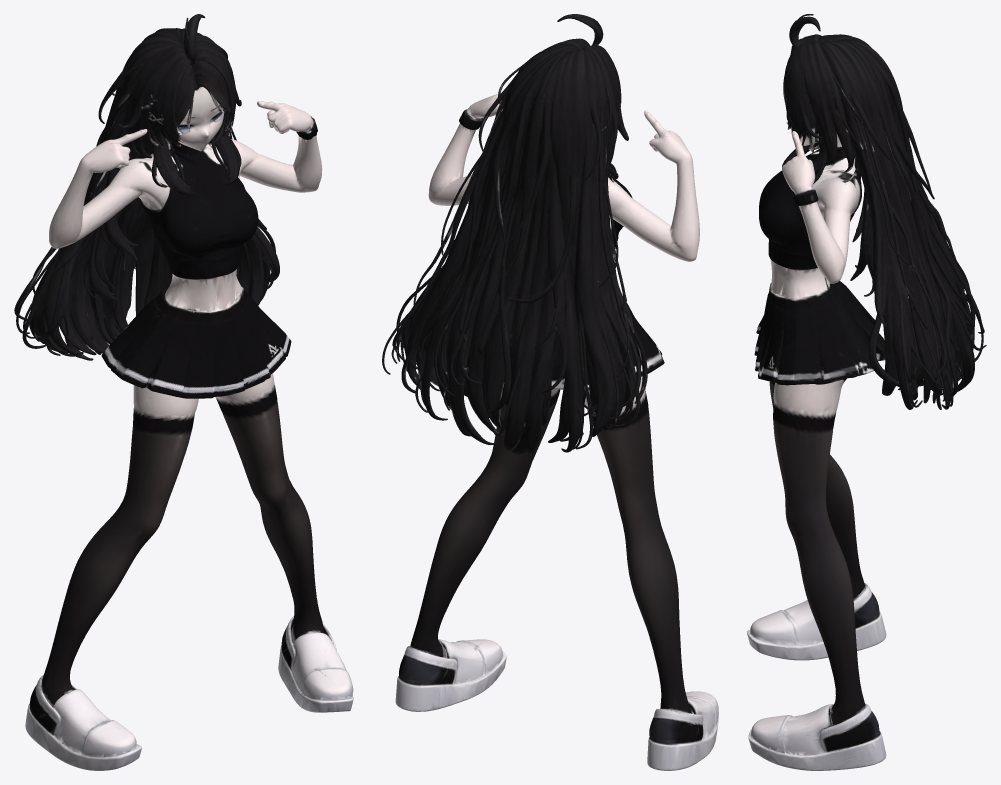
File: astra-pinoc-unrigged.glb
3 renders of one model, left to right at view 1: azimuth 30°, elevation 25°; view 2: azimuth 150°, elevation 25°; view 3: azimuth 270°, elevation 25°, orthographic. The views are drawn at different scales.
Parts seen in each view (by area): view 1: node_0; view 2: node_0; view 3: node_0.
Part boxes in pixels (box(x1,y1,x2,y2)): node_0: box(14, 14, 353, 770); node_0: box(382, 14, 718, 770); node_0: box(747, 14, 986, 770).
Size of the model in its own units: 0.6859 by 1.6 by 0.5067.
1 material, 1 textured.
